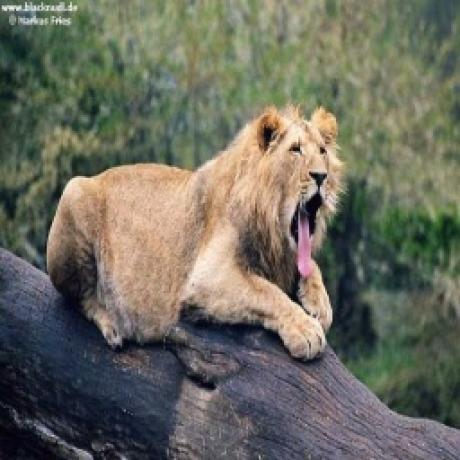Lion: (43, 106, 348, 364)
